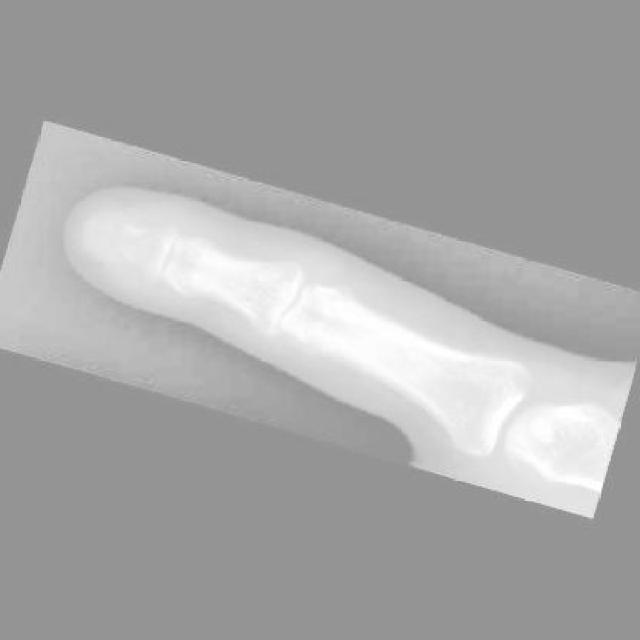Fracture: (63, 196, 154, 287)
